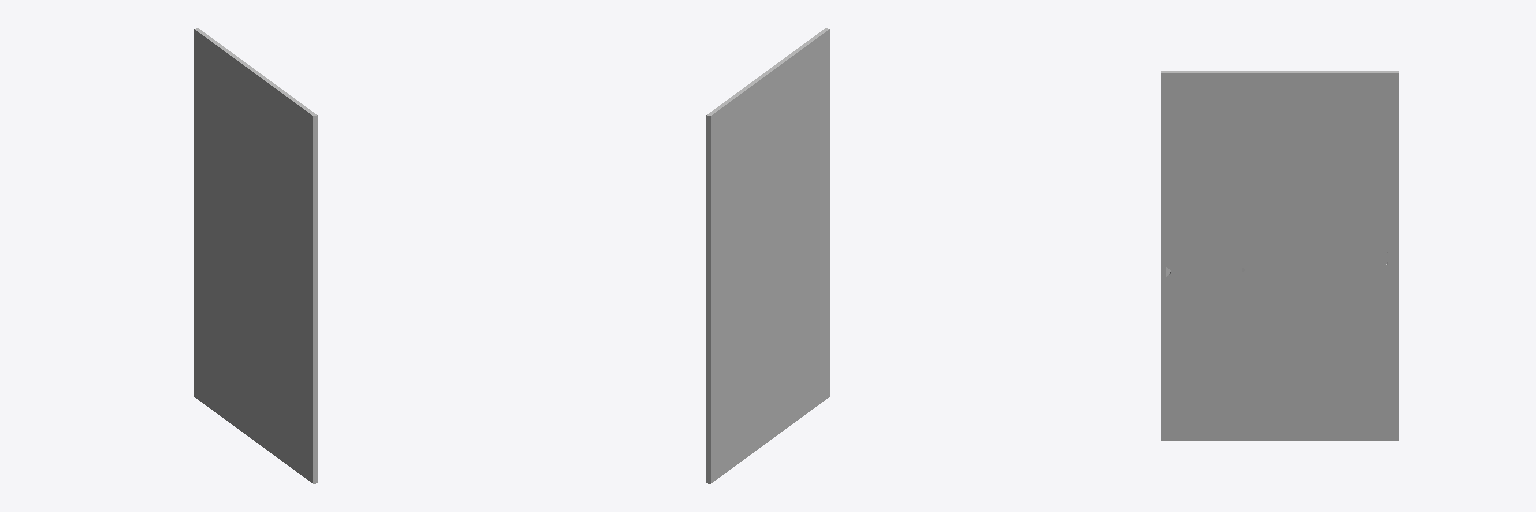
3 views of the same model, side by side, from view 1: azimuth 30°, elevation 25°; view 2: azimuth 150°, elevation 25°; view 3: azimuth 270°, elevation 25° (orthographic).
Parts seen in each view (by area): view 1: back1_zoetrope.051; view 2: back1_zoetrope.051; view 3: back1_zoetrope.051.
Boxes of the visible parts, x1=… form: back1_zoetrope.051: x1=194, y1=28, x2=317, y2=483; back1_zoetrope.051: x1=706, y1=28, x2=829, y2=483; back1_zoetrope.051: x1=1161, y1=71, x2=1398, y2=440.
Size of the model in its own units: 0.0117 by 0.9246 by 0.5439.